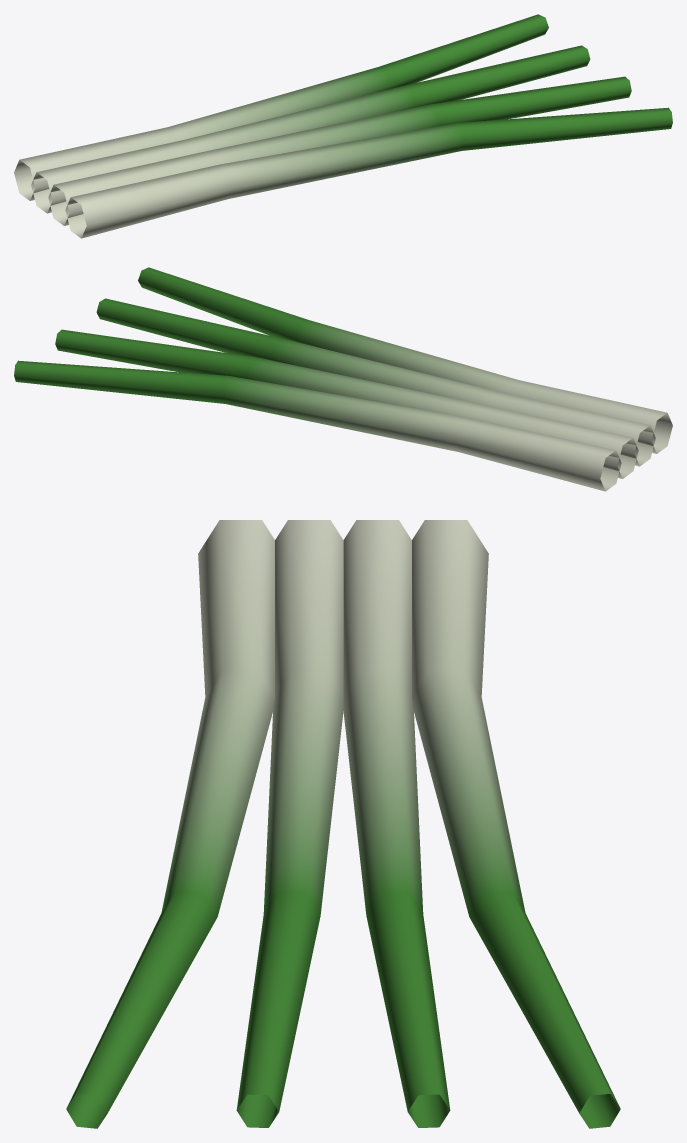
File: item_veg_greenonion.glb
3 views of the same model, one above another, from view 1: azimuth 30°, elevation 25°; view 2: azimuth 150°, elevation 25°; view 3: azimuth 270°, elevation 25° (orthographic). The views are drawn at different scales.
Visible parts, largest first — view 1: item_veg_greenonion_main; view 2: item_veg_greenonion_main; view 3: item_veg_greenonion_main.
Part boxes in pixels (bbox=[...]): item_veg_greenonion_main: bbox=[14, 14, 672, 238]; item_veg_greenonion_main: bbox=[14, 267, 672, 491]; item_veg_greenonion_main: bbox=[66, 520, 620, 1128].
Size of the model in its own units: 0.3012 by 0.0173 by 0.1297.
